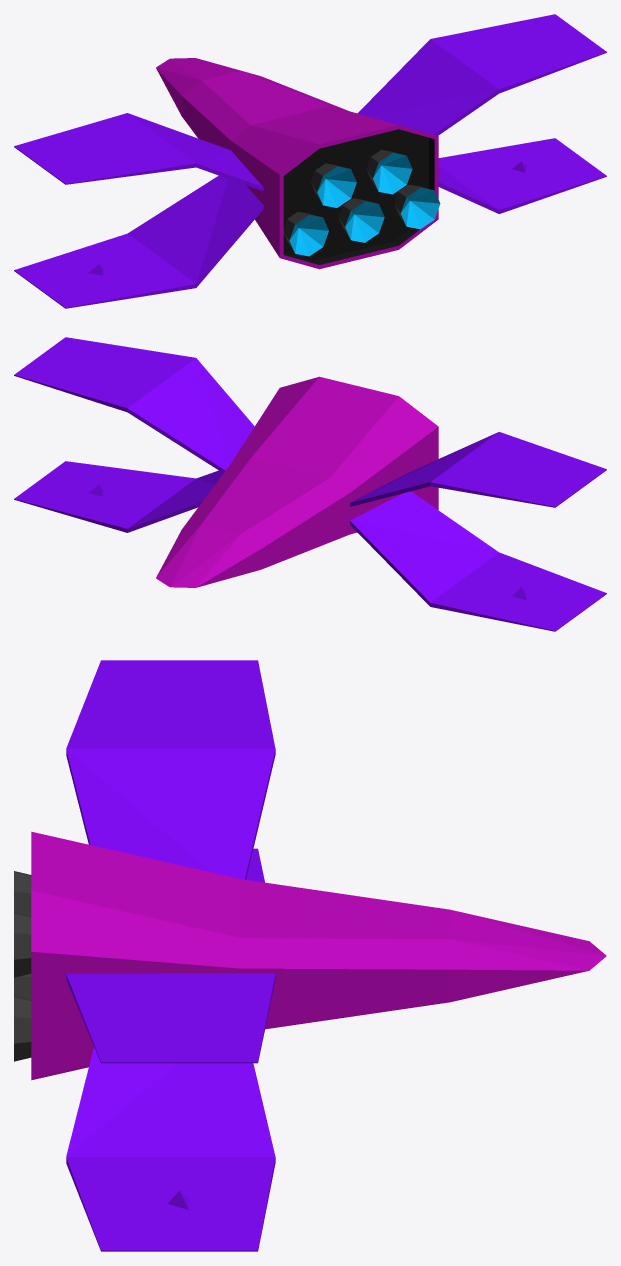
The model's file is vaisseaucolor 1.fbx.
The picture shows the model from 3 angles, top to bottom: view 1: azimuth 30°, elevation 25°; view 2: azimuth 150°, elevation 25°; view 3: azimuth 270°, elevation 25°; orthographic projection. The views are drawn at different scales.
Visible parts, largest first — view 1: Vaisseau; view 2: Vaisseau; view 3: Vaisseau.
Part boxes in pixels (x1,y1,x2,y2): Vaisseau: [14, 14, 606, 308]; Vaisseau: [14, 337, 606, 631]; Vaisseau: [14, 660, 606, 1251].
Size of the model in its own units: 1362 by 300 by 850.
